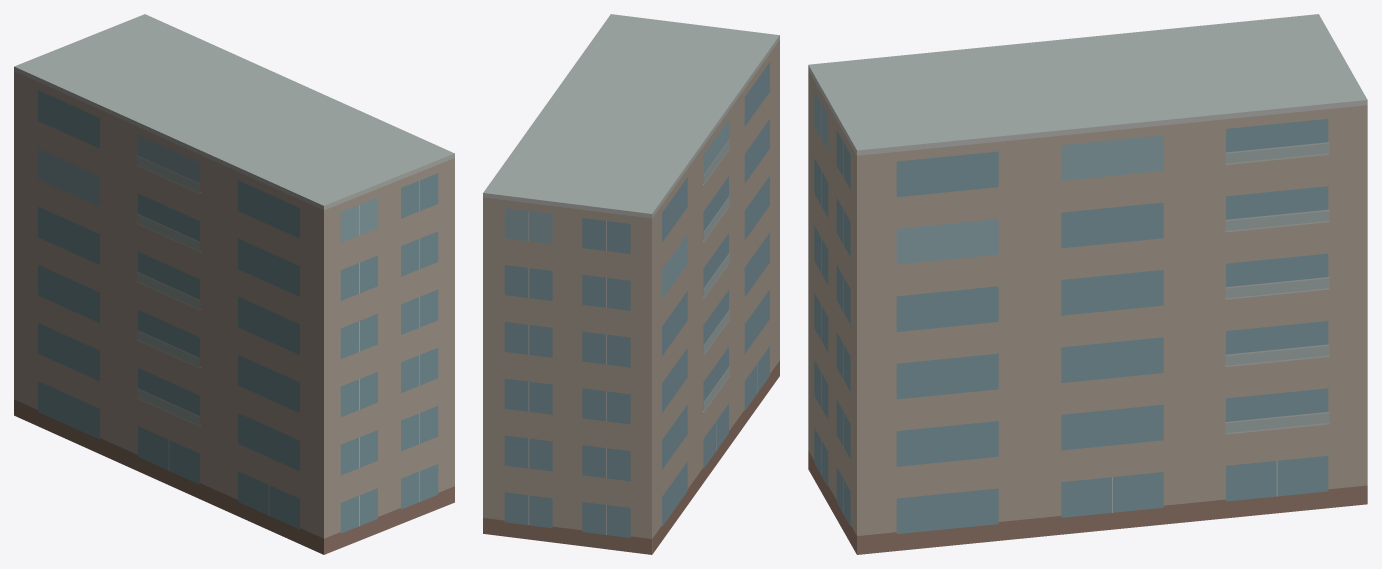
File: survey-upis-32918401.glb
3 views of the same model, side by side, from view 1: azimuth 30°, elevation 25°; view 2: azimuth 150°, elevation 25°; view 3: azimuth 270°, elevation 25° (orthographic). The views are drawn at different scales.
Visible parts, largest first — view 1: survey-upis-32918401.tmp; view 2: survey-upis-32918401.tmp; view 3: survey-upis-32918401.tmp.
Boxes of the visible parts, x1,y1,x2,y2 form: survey-upis-32918401.tmp: (14,14,454,554); survey-upis-32918401.tmp: (483,14,779,554); survey-upis-32918401.tmp: (808,14,1367,554).
Bounding box in the file's own units: 13.63 × 18.8 × 23.58.
